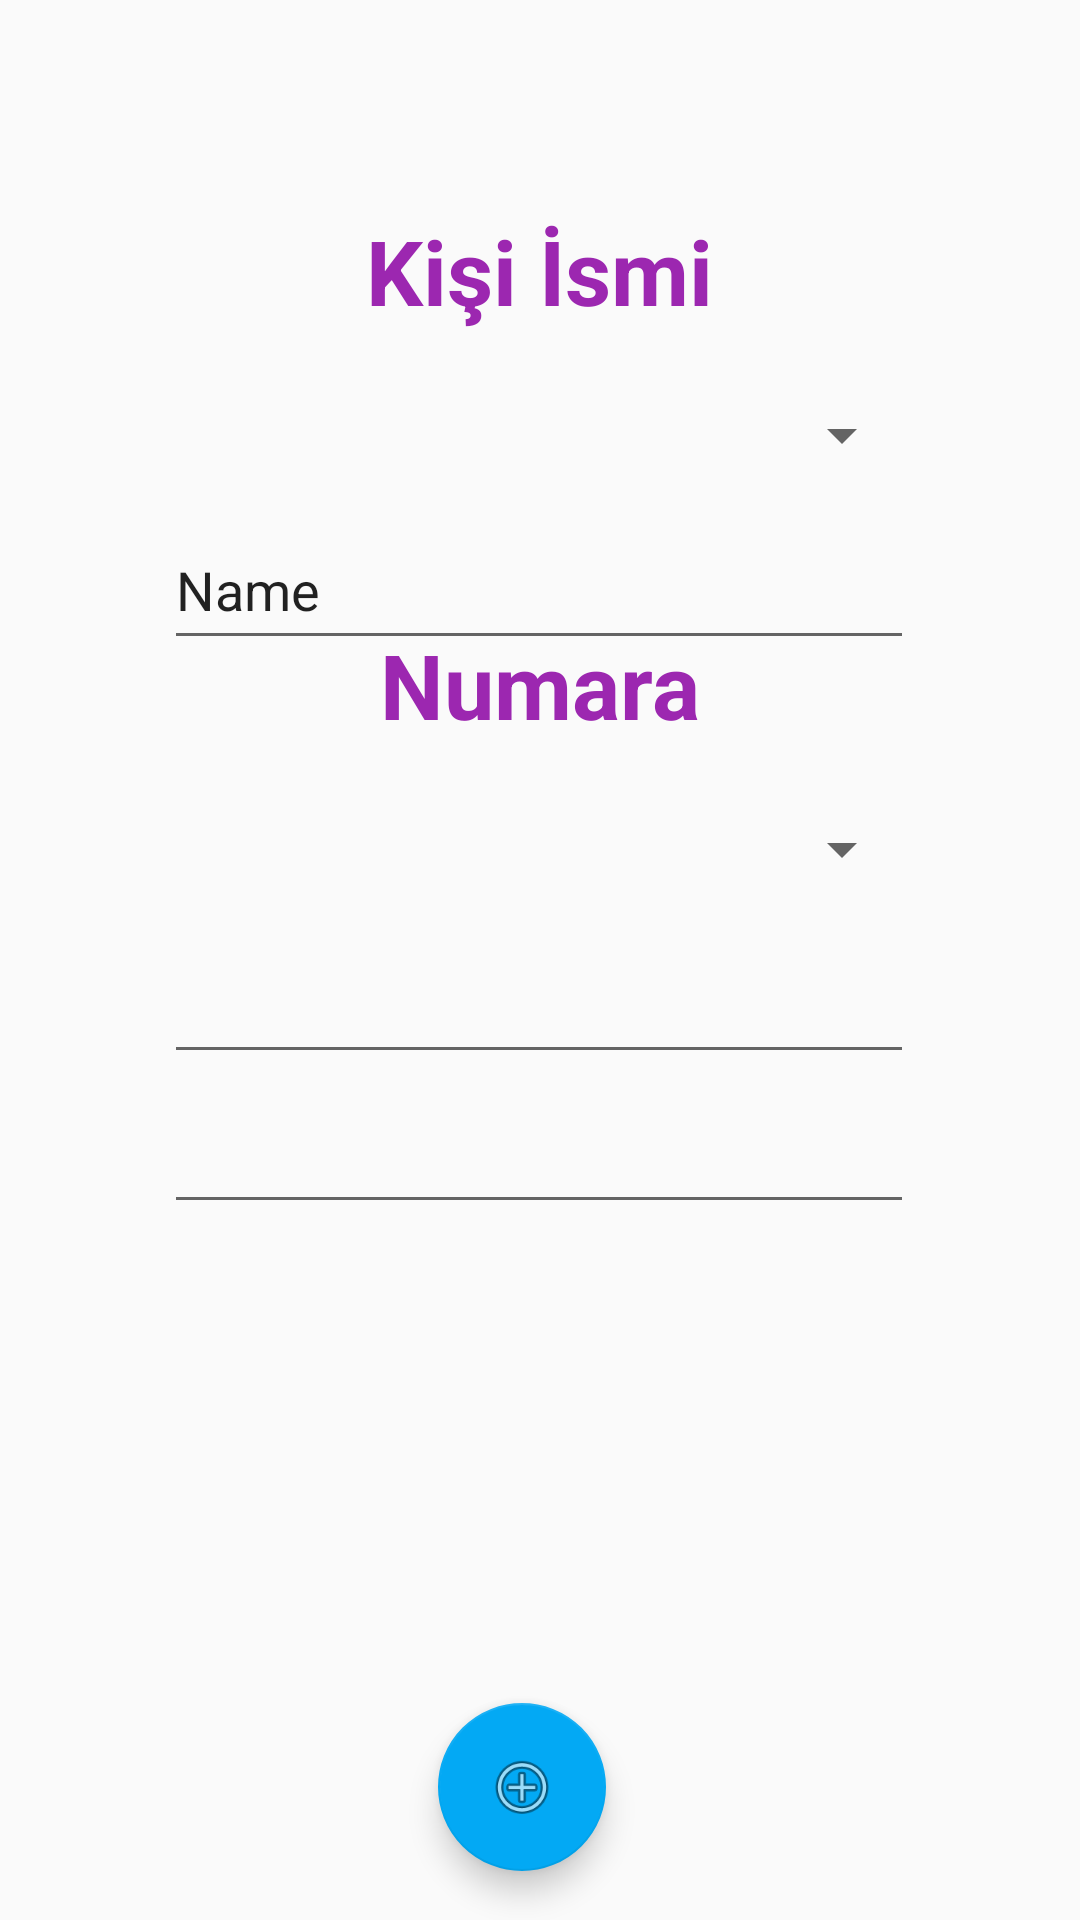

Named icons in this screenshot (1080x1920) and their bounding boxes, (x1, y1, x2, y2):
add: (438, 1703, 606, 1871)
